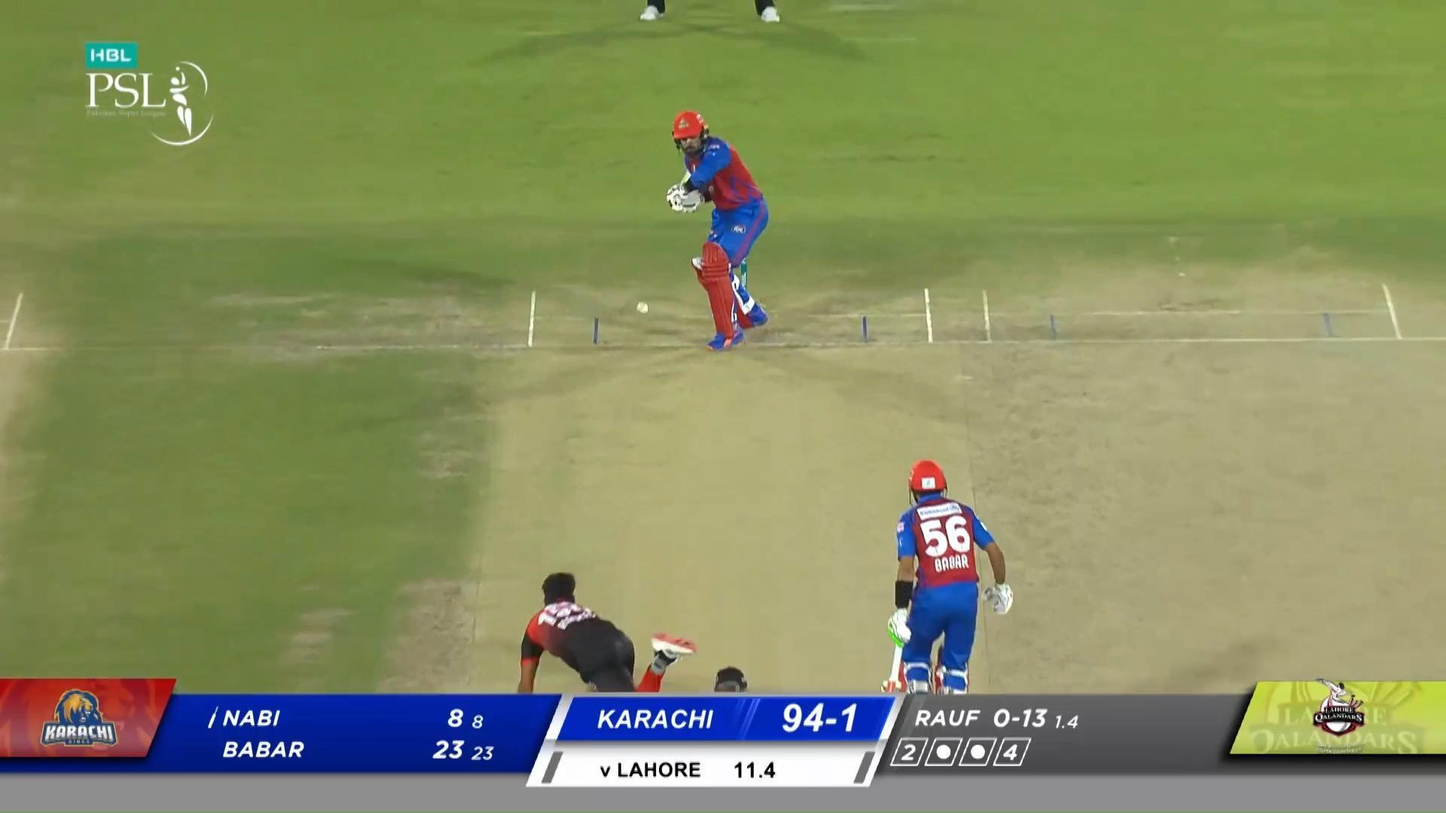BM 1: (666, 108, 771, 353)
BO: (516, 571, 697, 693)
